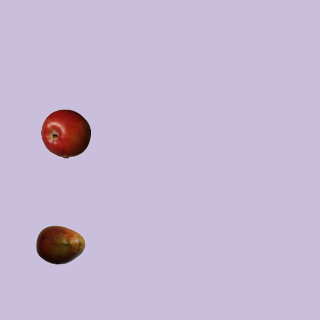Apple Braeburn: (40, 108, 90, 158)
Mango Red: (35, 219, 85, 269)
